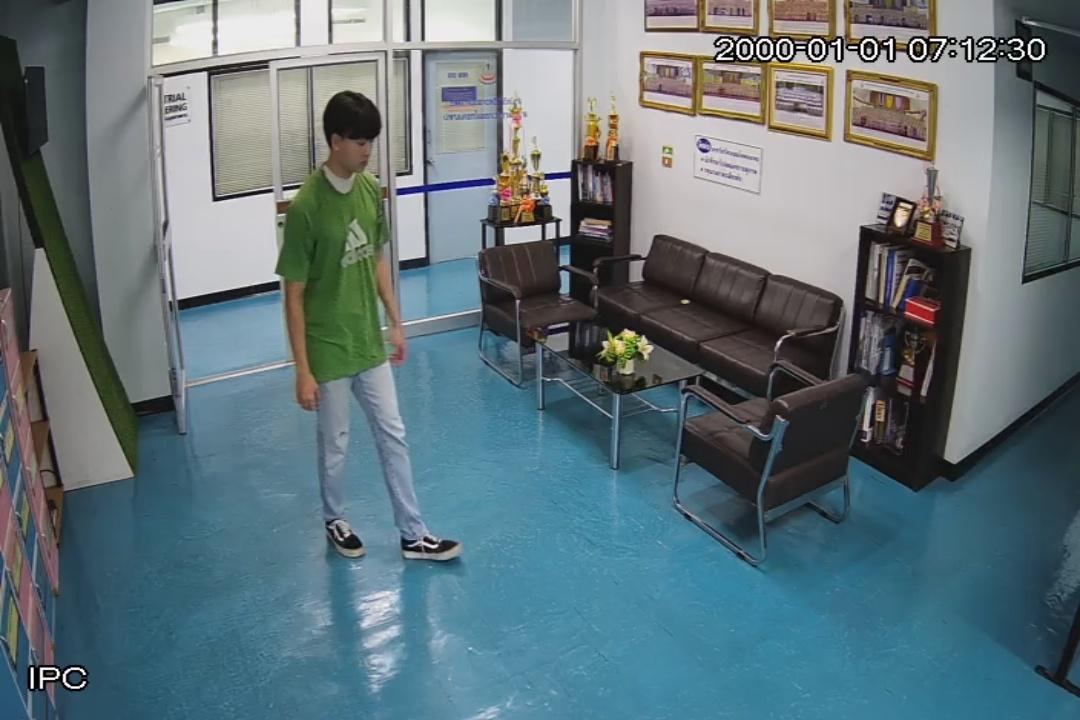normal: (278, 89, 461, 566)
